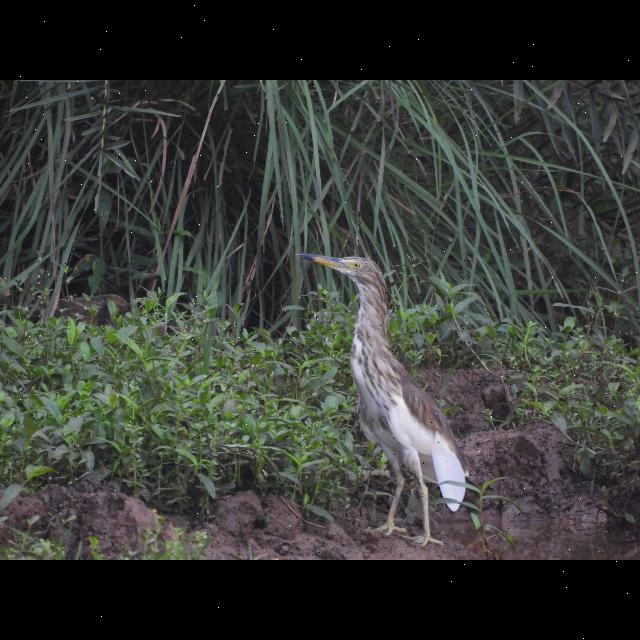heron: (300, 250, 474, 542)
